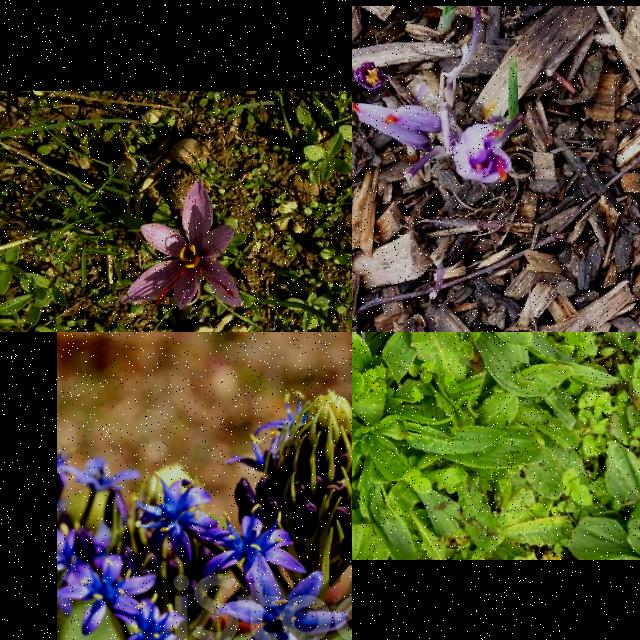flower: (122, 180, 244, 306), (352, 103, 432, 151), (453, 124, 512, 182), (383, 106, 442, 134)
